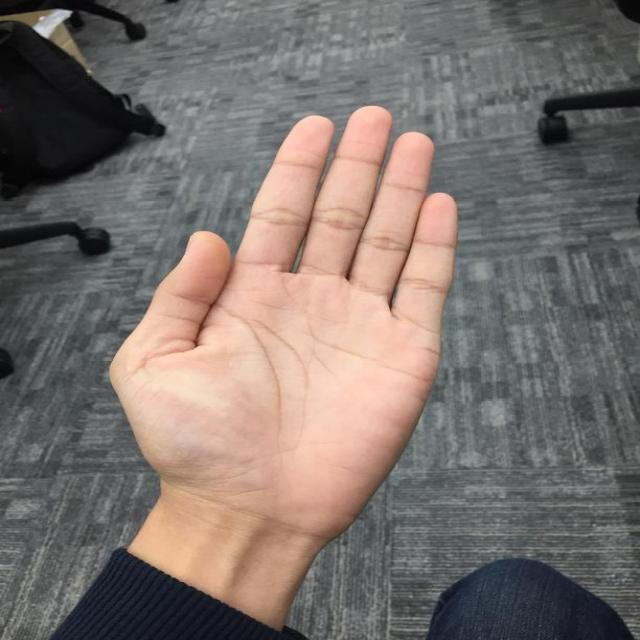hand: (107, 103, 460, 542)
